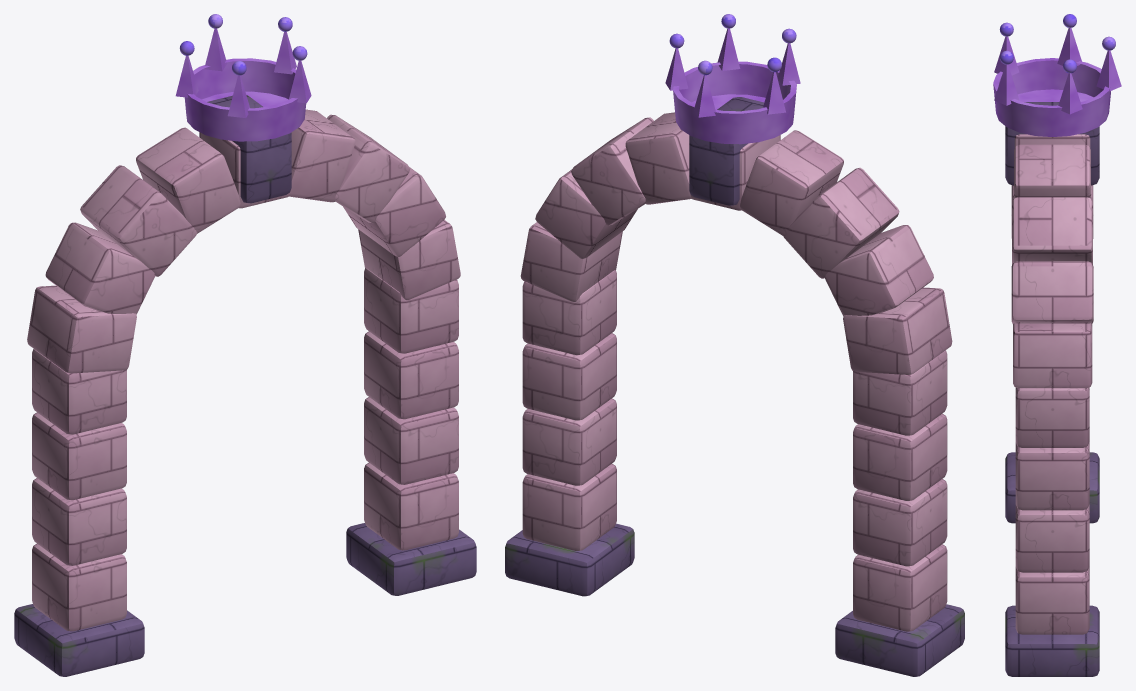
File: GIN_UG_CrownArch.fbx
3 renders of one model, left to right at view 1: azimuth 30°, elevation 25°; view 2: azimuth 150°, elevation 25°; view 3: azimuth 270°, elevation 25°, orthographic. The views are drawn at different scales.
Visible parts, largest first — view 1: GIN_UG_CrownArch; view 2: GIN_UG_CrownArch; view 3: GIN_UG_CrownArch.
Boxes of the visible parts, x1,y1,x2,y2 form: GIN_UG_CrownArch: (14,14,476,676); GIN_UG_CrownArch: (505,14,964,676); GIN_UG_CrownArch: (993,14,1121,676).
Size of the model in its own units: 3.4 by 4.47 by 0.9555.
